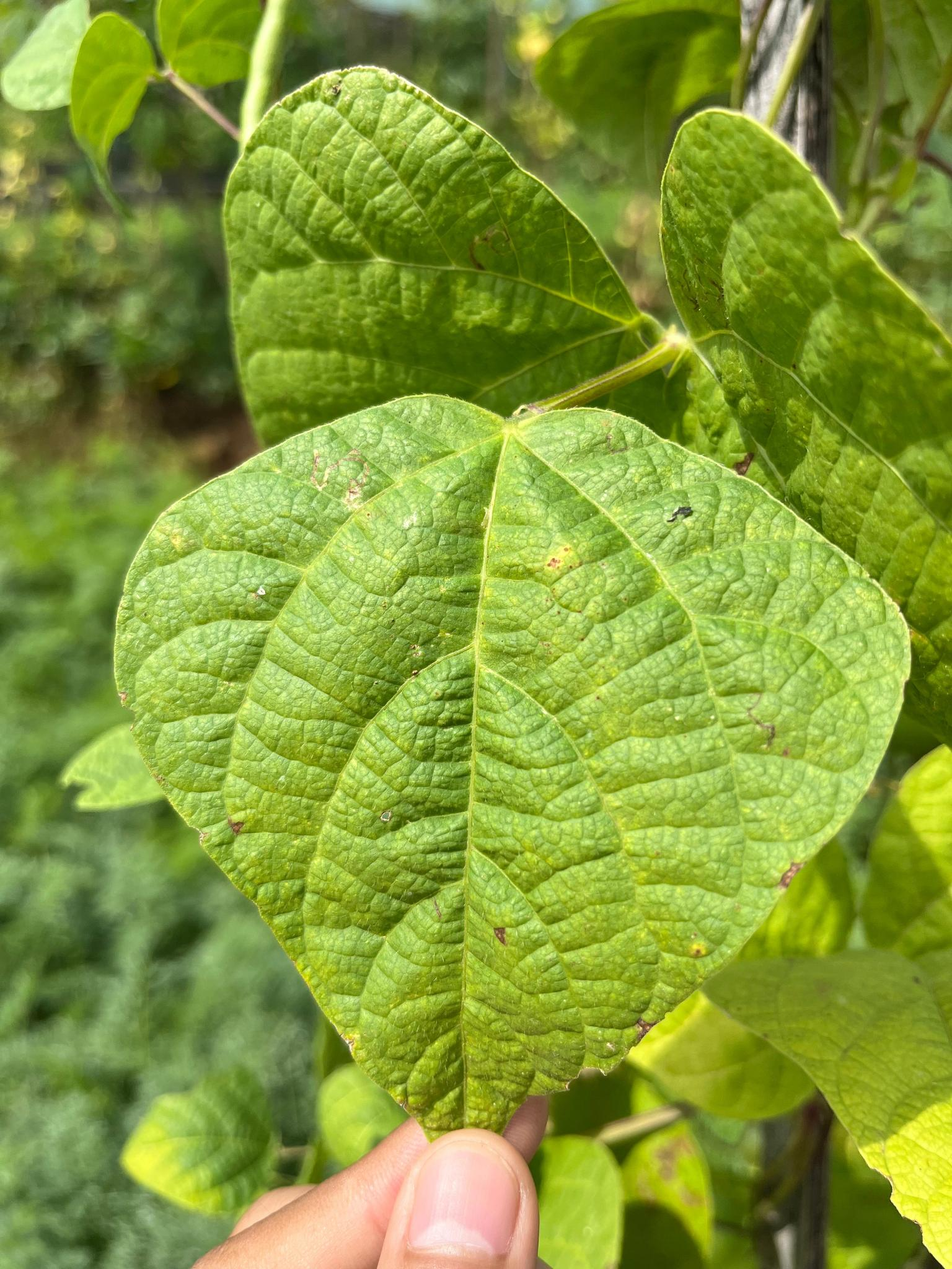sehat: (139, 414, 869, 1119)
